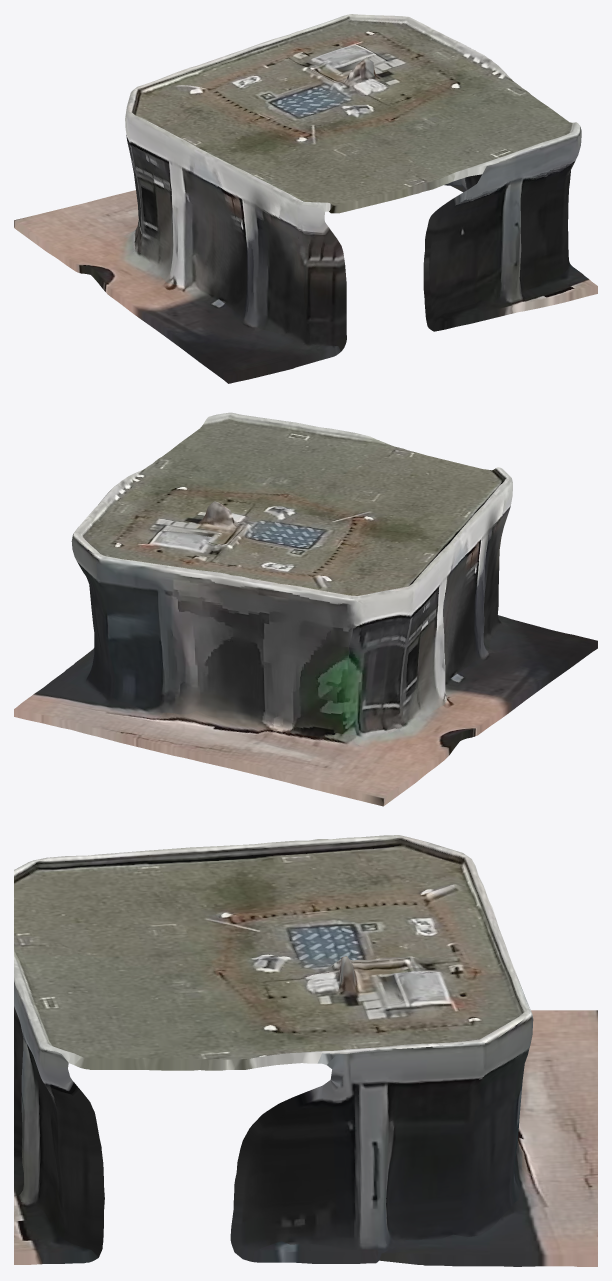
Rendered from z20-167781-405228-h0-yup-uvflip-v3-world.glb.
The picture shows the model from 3 angles, top to bottom: view 1: azimuth 30°, elevation 25°; view 2: azimuth 150°, elevation 25°; view 3: azimuth 270°, elevation 25°; orthographic projection. The views are drawn at different scales.
Size of the model in its own units: 30.16 by 13.64 by 30.32.
Materials: 1 (1 with a texture image).
